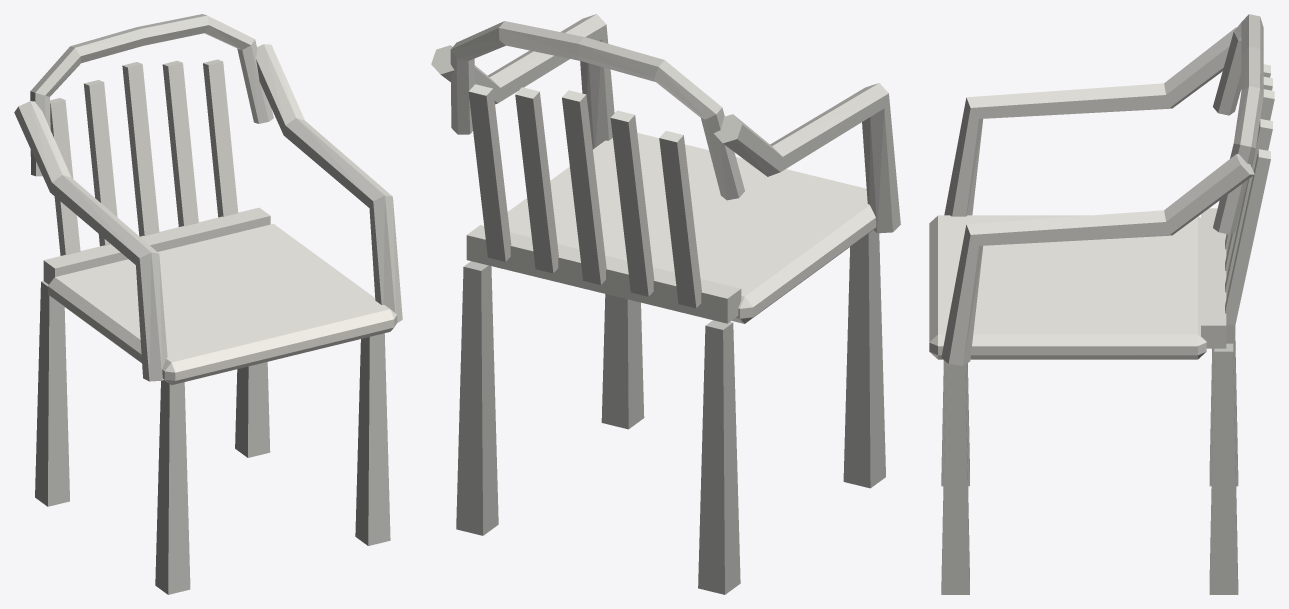
Rendered from pool_chair.glb.
The picture shows the model from 3 angles, left to right: view 1: azimuth 30°, elevation 25°; view 2: azimuth 150°, elevation 25°; view 3: azimuth 270°, elevation 25°; orthographic projection. The views are drawn at different scales.
Visible parts, largest first — view 1: core_pool_chair; view 2: core_pool_chair; view 3: core_pool_chair.
Boxes of the visible parts, x1,y1,x2,y2 form: core_pool_chair: (14, 14, 402, 594); core_pool_chair: (431, 14, 900, 594); core_pool_chair: (929, 14, 1274, 594).
Bounding box in the file's own units: 0.5138 × 0.8492 × 0.5453.
1 material, 1 textured.
